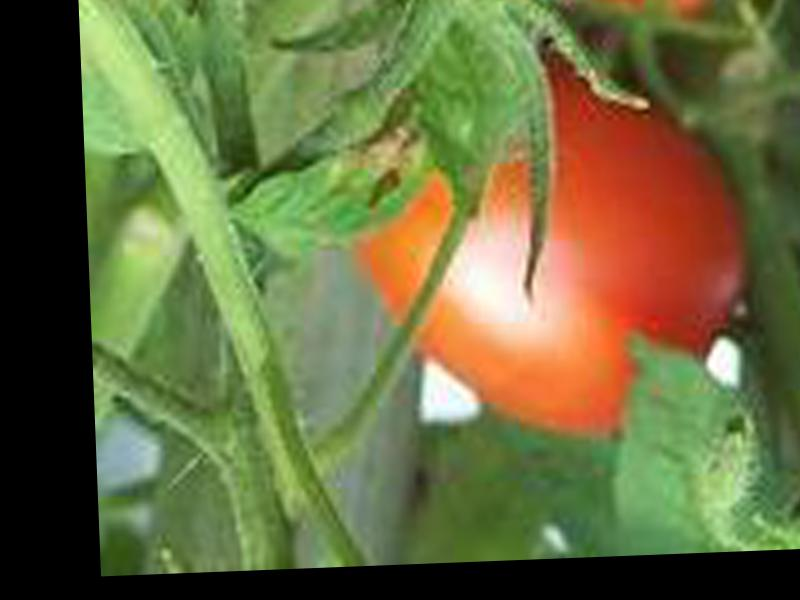Tomato: (356, 64, 750, 446)
